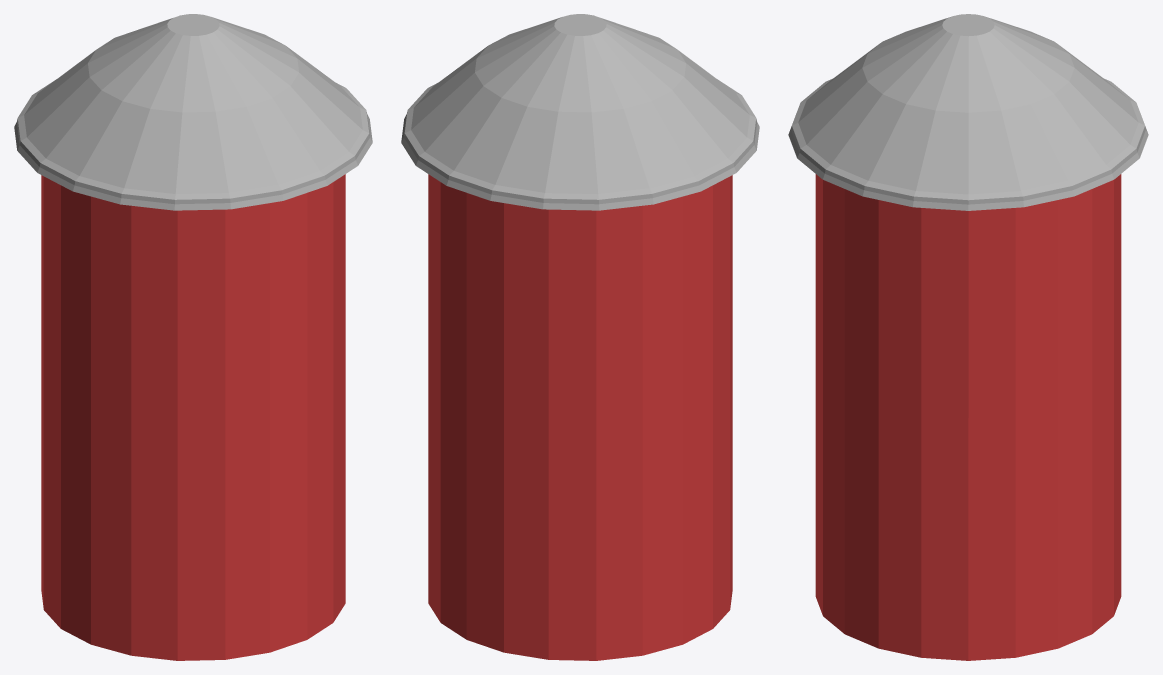
The model's file is Silo (1).fbx.
3 views of the same model, side by side, from view 1: azimuth 30°, elevation 25°; view 2: azimuth 150°, elevation 25°; view 3: azimuth 270°, elevation 25° (orthographic).
Visible parts, largest first — view 1: Cylinder, Cylinder.001; view 2: Cylinder, Cylinder.001; view 3: Cylinder, Cylinder.001.
Boxes of the visible parts, x1=… form: Cylinder: x1=41, y1=174, x2=345, y2=660; Cylinder.001: x1=14, y1=14, x2=372, y2=210; Cylinder: x1=428, y1=174, x2=732, y2=660; Cylinder.001: x1=401, y1=14, x2=759, y2=210; Cylinder: x1=815, y1=174, x2=1121, y2=660; Cylinder.001: x1=788, y1=14, x2=1148, y2=210.
Bounding box in the file's own units: 310 × 542 × 310.
